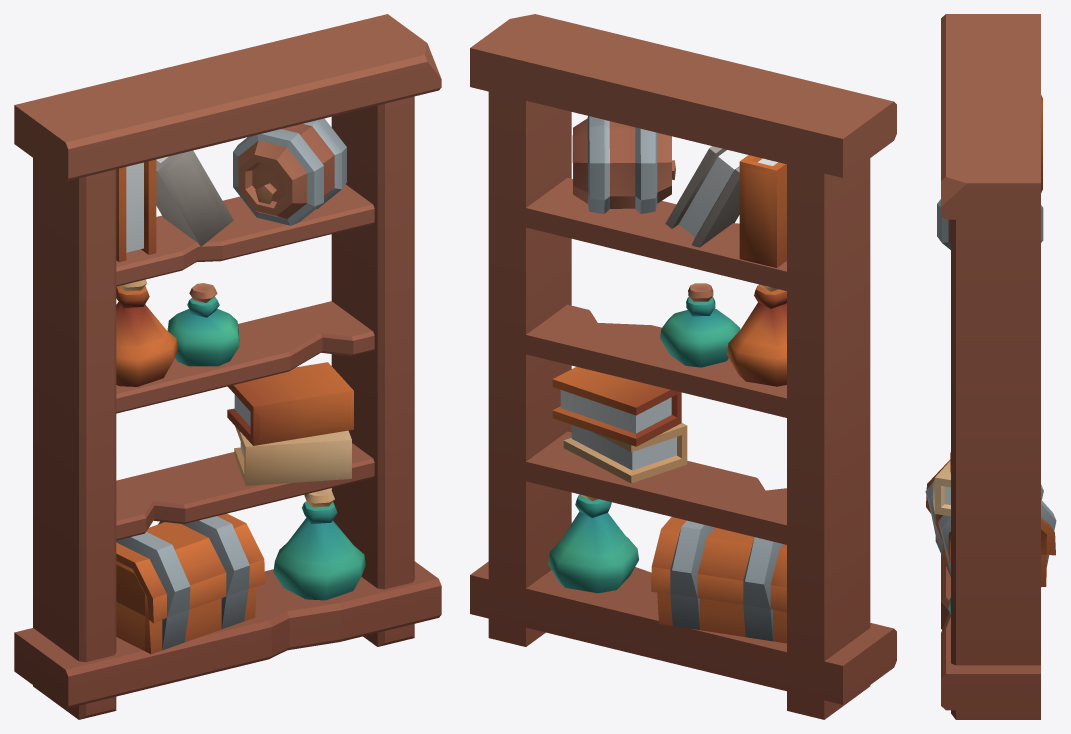
File: bookcase_single_decoratedB.glb
The picture shows the model from 3 angles, left to right: view 1: azimuth 30°, elevation 25°; view 2: azimuth 150°, elevation 25°; view 3: azimuth 270°, elevation 25°; orthographic projection. The views are drawn at different scales.
Visible parts, largest first — view 1: bookcase_single_decoratedB; view 2: bookcase_single_decoratedB; view 3: bookcase_single_decoratedB.
Boxes of the visible parts, x1,y1,x2,y2 form: bookcase_single_decoratedB: [14, 14, 441, 719]; bookcase_single_decoratedB: [470, 14, 896, 719]; bookcase_single_decoratedB: [925, 14, 1056, 719].
Size of the model in its own units: 2 by 3 by 0.6536.
Materials: 1 (1 with a texture image).
